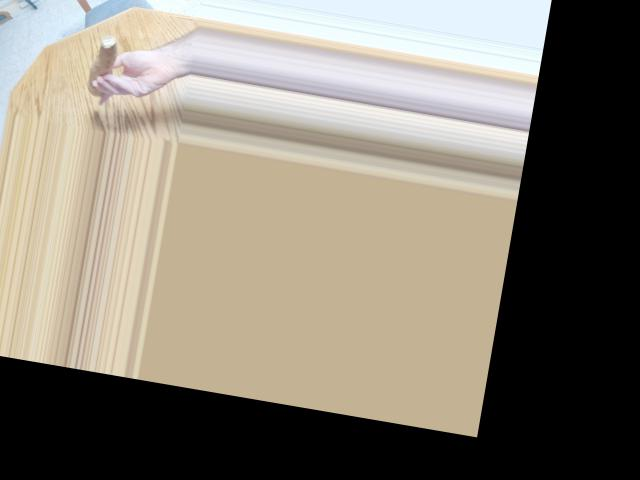sweet_potato: (84, 35, 126, 92)
